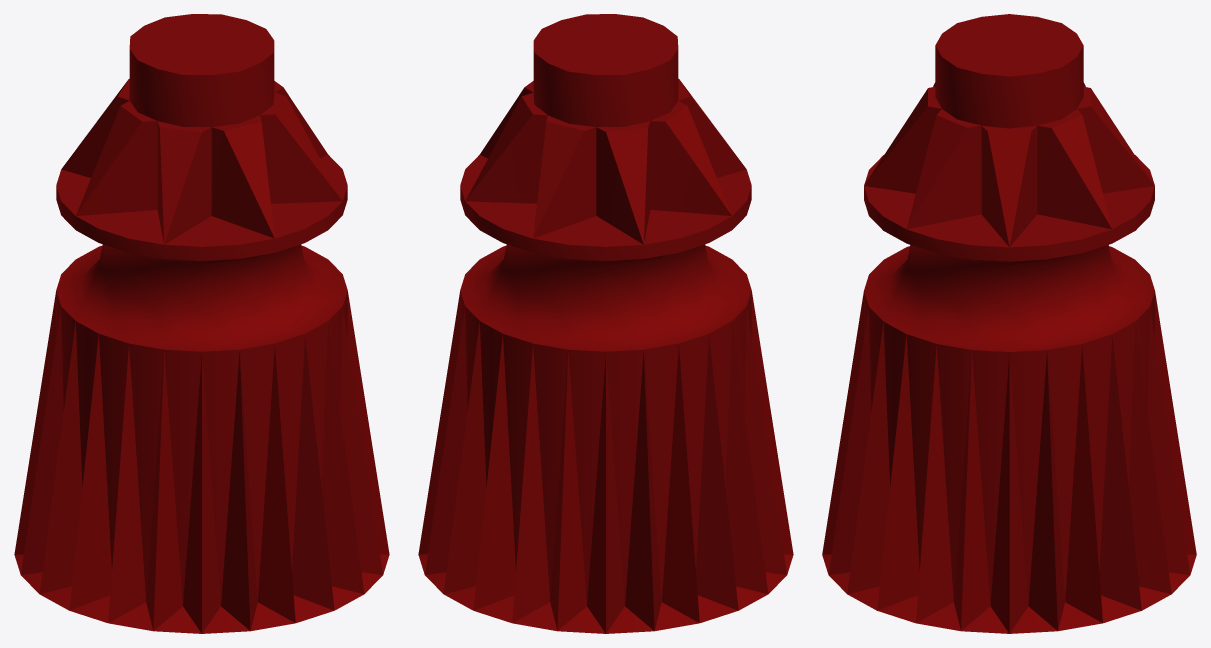
Rendered from Peg5.fbx.
3 views of the same model, side by side, from view 1: azimuth 30°, elevation 25°; view 2: azimuth 150°, elevation 25°; view 3: azimuth 270°, elevation 25° (orthographic).
Parts seen in each view (by area): view 1: Peg5; view 2: Peg5; view 3: Peg5.
Boxes of the visible parts, x1=… form: Peg5: x1=14, y1=14, x2=389, y2=633; Peg5: x1=418, y1=14, x2=793, y2=633; Peg5: x1=822, y1=14, x2=1196, y2=633.
Size of the model in its own units: 1.74 by 2.61 by 1.74.
